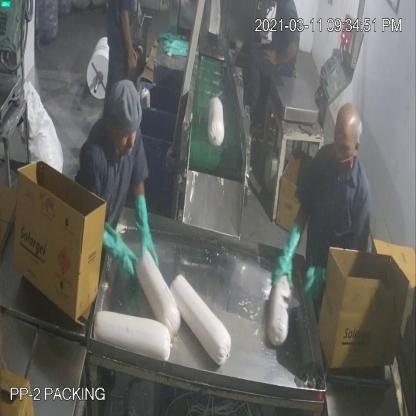glove: (131, 186, 165, 281), (273, 219, 305, 295)
no_glove: (256, 37, 302, 75), (117, 9, 141, 70)
